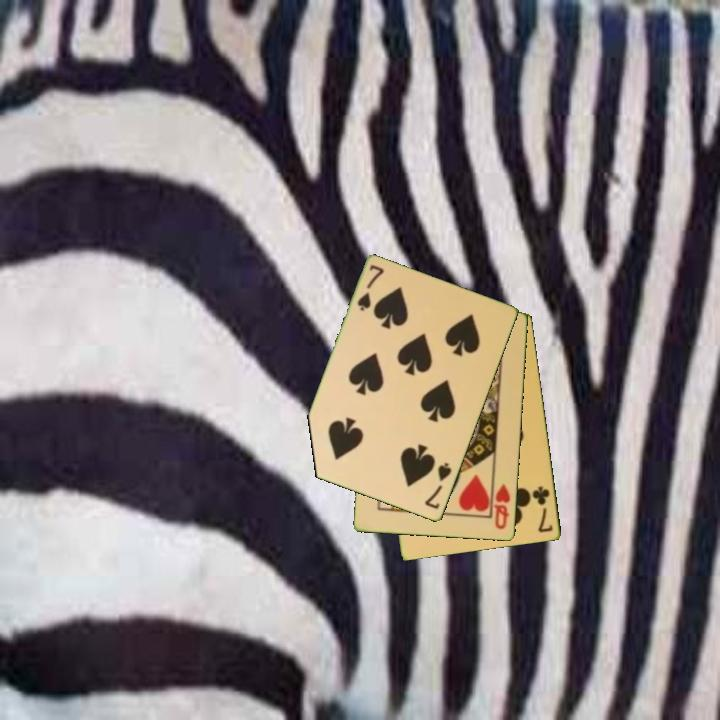7c: (529, 483, 556, 536)
7s: (421, 459, 455, 512), (354, 261, 387, 314)
Qh: (491, 480, 514, 532)
